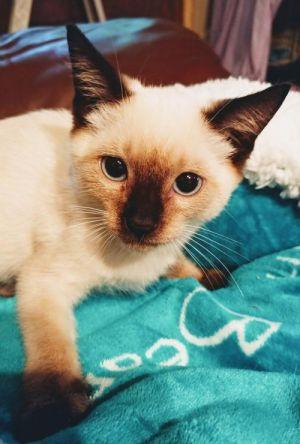siamese: (49, 10, 300, 262)
